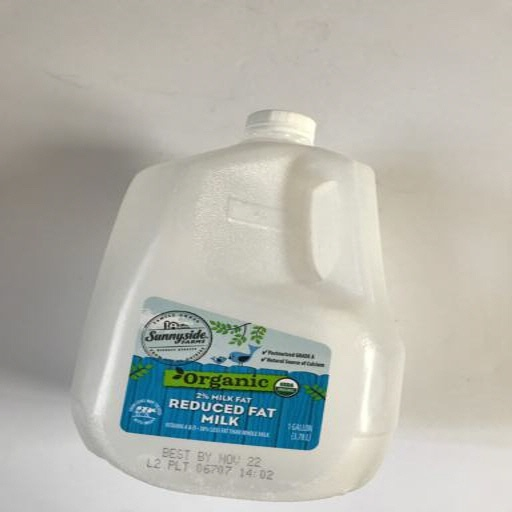Plastic_1: (73, 108, 401, 499)
